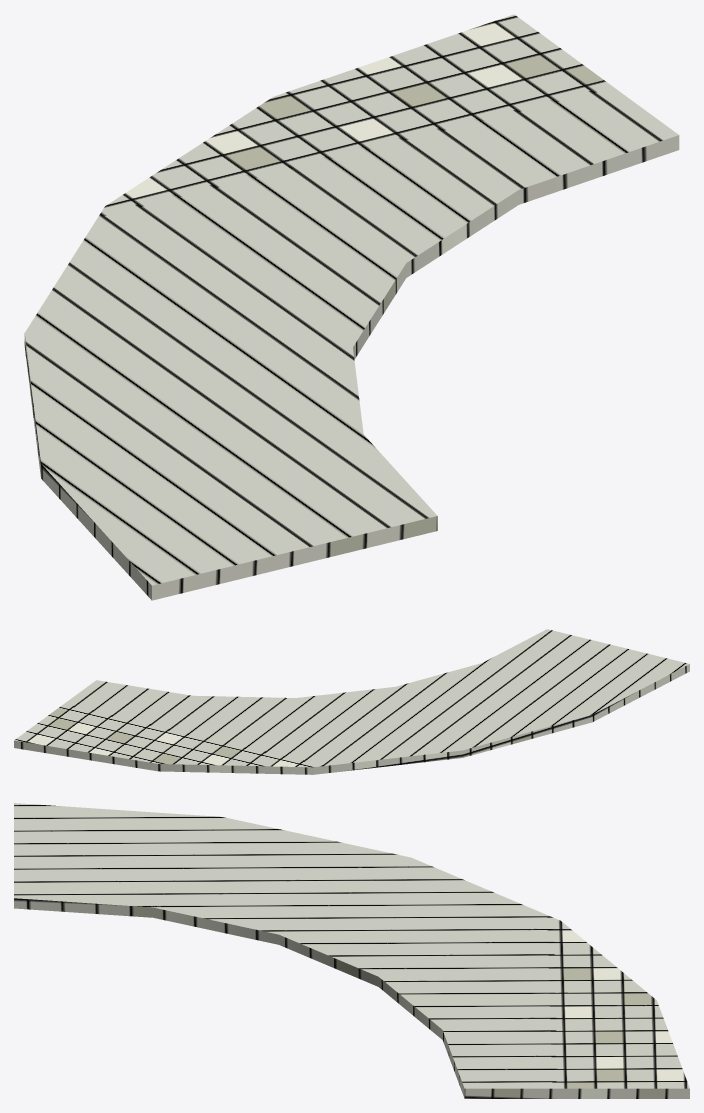
File: TileFloorCurved.fbx
3 renders of one model, top to bottom at view 1: azimuth 30°, elevation 25°; view 2: azimuth 150°, elevation 25°; view 3: azimuth 270°, elevation 25°, orthographic. The views are drawn at different scales.
Visible parts, largest first — view 1: TileFloorCurved; view 2: TileFloorCurved; view 3: TileFloorCurved.
Boxes of the visible parts, x1,y1,x2,y2 form: TileFloorCurved: [24, 14, 679, 600]; TileFloorCurved: [14, 629, 689, 774]; TileFloorCurved: [14, 803, 689, 1098].
Bounding box in the file's own units: 3000 × 50.26 × 3000.
